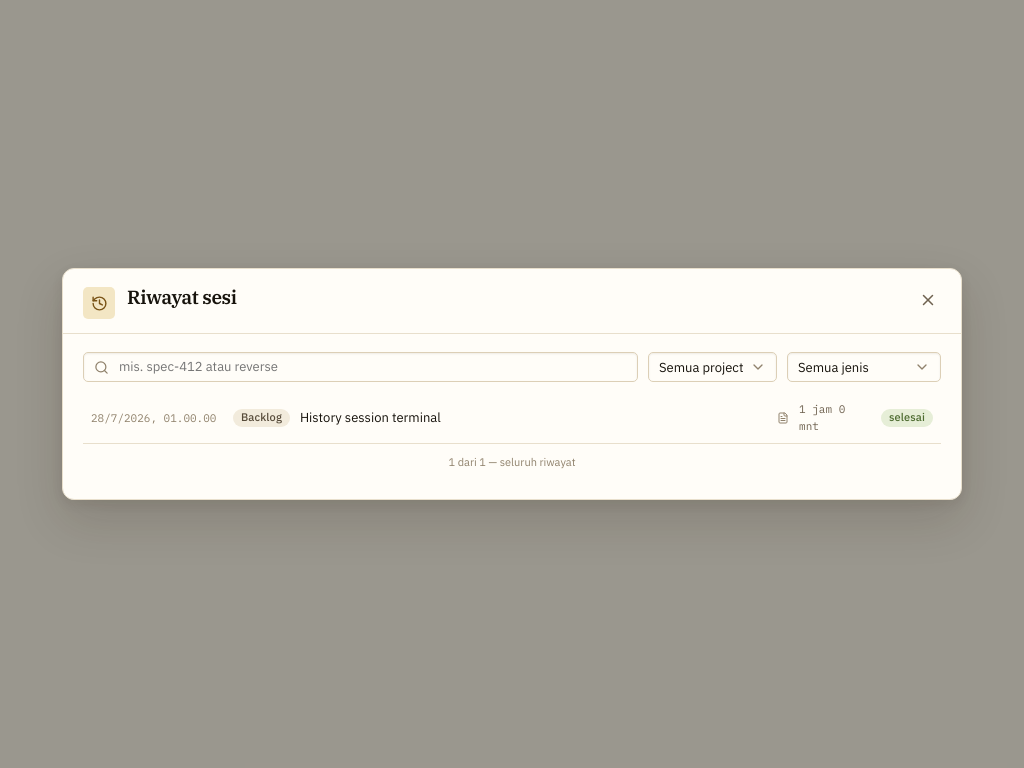
Scenario: SessionHistoryModal — detail (SPEC-362) › klik baris memuat transkrip dan menampilkannya
Click the text "History session terminal": (370, 418) [300, 409, 441, 426]
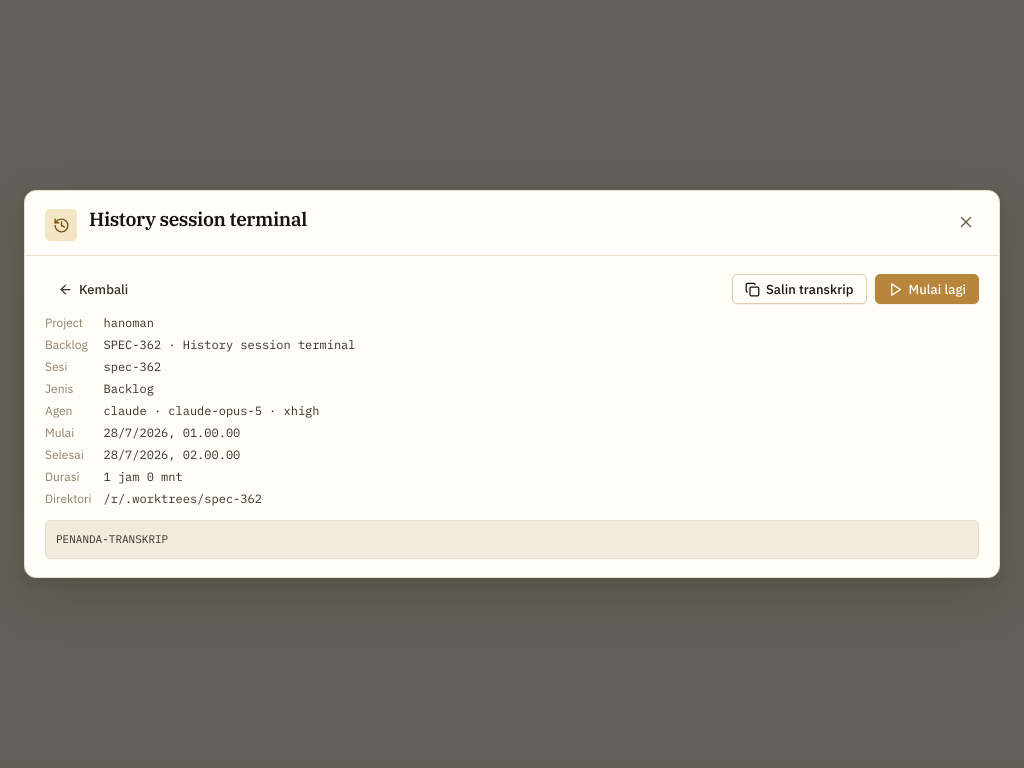
Expected: the text "PENANDA-TRANSKRIP" is shown, [45, 520, 979, 559]
